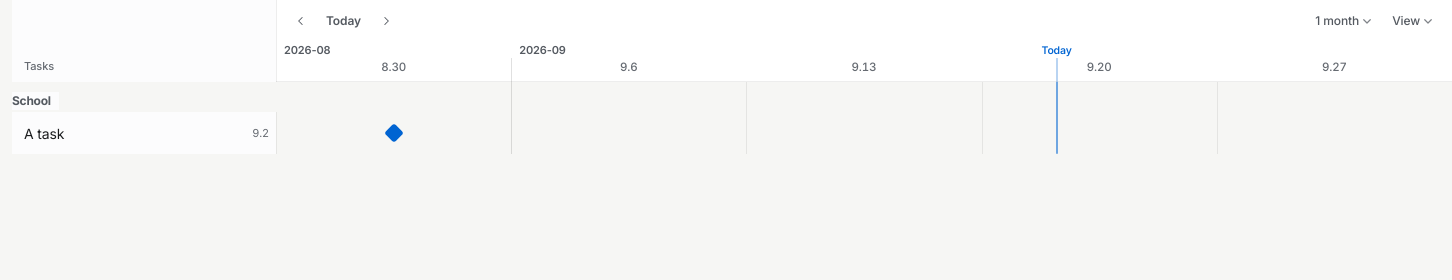
the heading of a column › names the weekday where a column IS a day (I7)
Click the button with aria-label "Zoom" at coordinates (1344, 21), box [1307,6,1381,36]
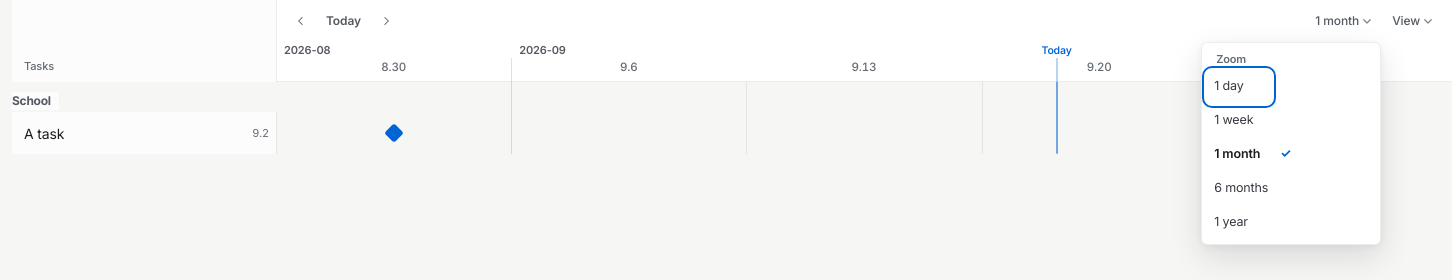
Click the menu item "1 week" at coordinates (1244, 120), box [1206,104,1281,138]
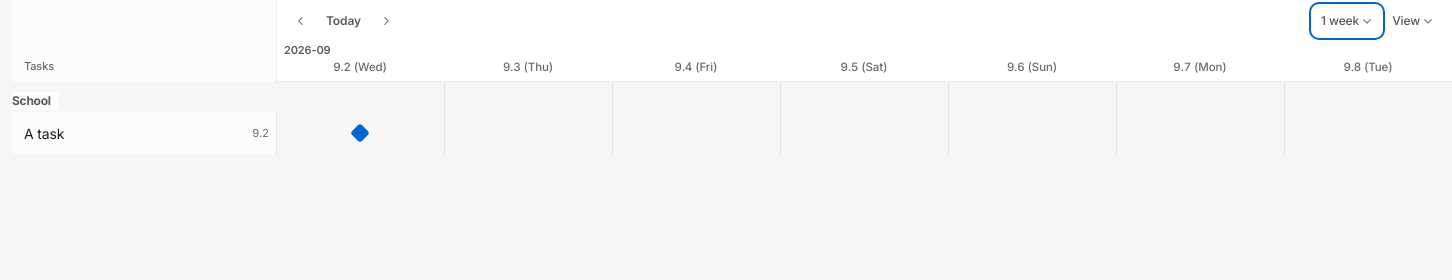
Now the text "9.2 (Wed)" is shown, box [333,59,387,76]
Now the text "9.3 (Thu)" is shown, box [503,59,553,76]
